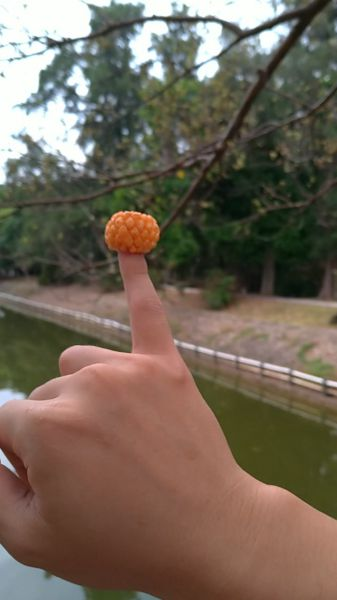eggs: (100, 211, 163, 255)
